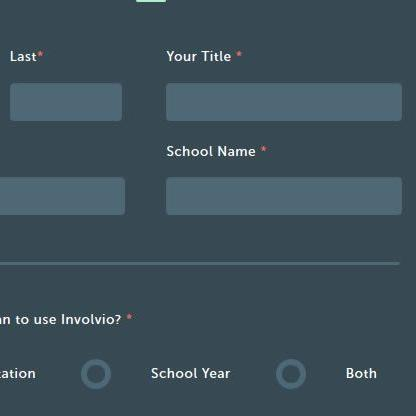field: (167, 81, 404, 122), (165, 176, 403, 216), (7, 81, 124, 123)
field_with_label: (164, 50, 408, 125), (162, 144, 406, 218), (7, 50, 126, 125)
radio: (80, 358, 114, 391), (275, 360, 308, 392)
radio_with_label: (77, 356, 234, 394), (272, 357, 377, 394)
